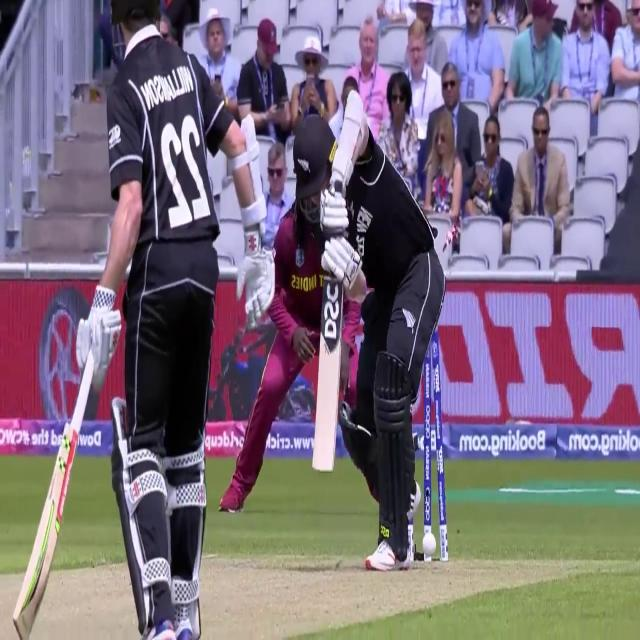ball: (415, 526, 437, 568)
